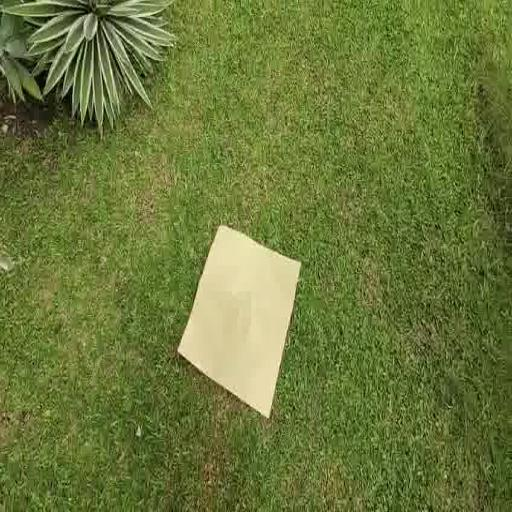landing_path: (174, 217, 304, 425)
